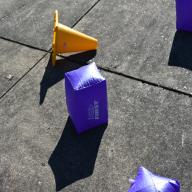cone: (51, 10, 98, 68)
cube: (64, 61, 108, 135), (127, 165, 180, 192), (175, 0, 192, 32)
